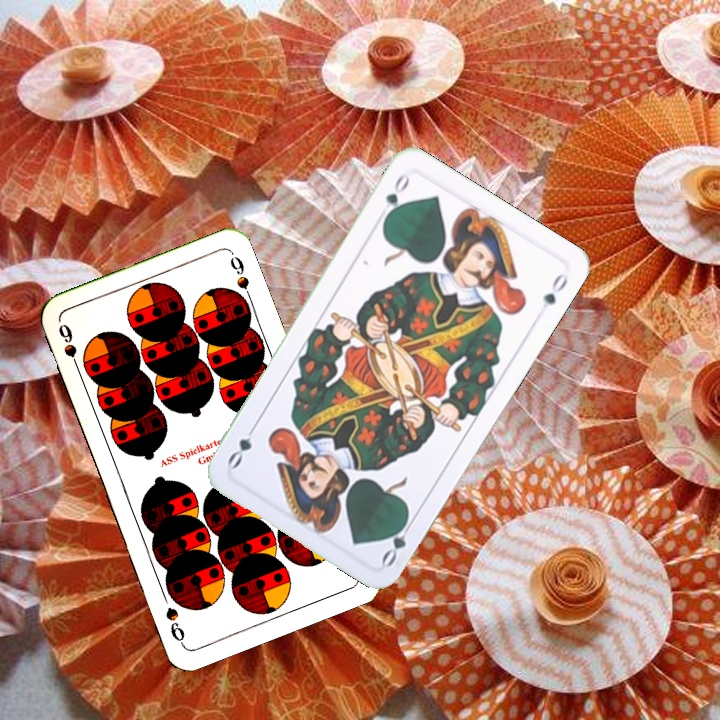GO: (377, 512, 417, 569), (379, 169, 413, 225)
S9: (54, 319, 84, 376)
